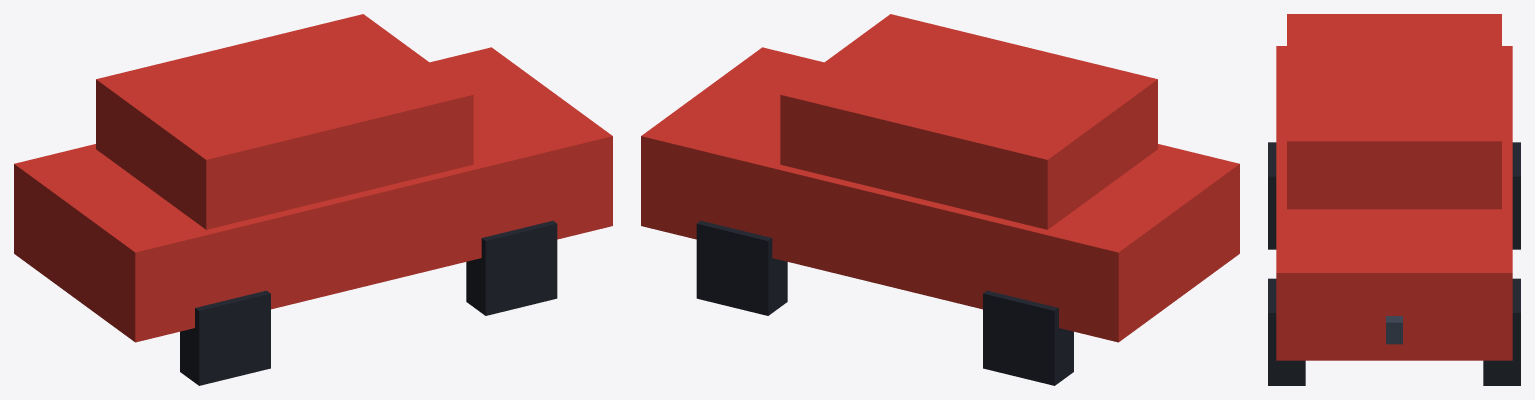
File: parkedCarRed.glb
3 renders of one model, left to right at view 1: azimuth 30°, elevation 25°; view 2: azimuth 150°, elevation 25°; view 3: azimuth 270°, elevation 25°, orthographic. The views are drawn at different scales.
Parts seen in each view (by area): view 1: parkedCarRed_red, parkedCarRed_black; view 2: parkedCarRed_red, parkedCarRed_black; view 3: parkedCarRed_red, parkedCarRed_black, parkedCarRed_steelDark.
Boxes of the visible parts, x1,y1,x2,y2 form: parkedCarRed_red: (14, 14, 612, 342); parkedCarRed_black: (180, 220, 557, 385); parkedCarRed_red: (641, 14, 1239, 342); parkedCarRed_black: (696, 220, 1073, 385); parkedCarRed_red: (1276, 14, 1512, 360); parkedCarRed_black: (1268, 142, 1520, 385); parkedCarRed_steelDark: (1386, 316, 1402, 344).
Bounding box in the file's own units: 5.15 × 2.15 × 2.35.
